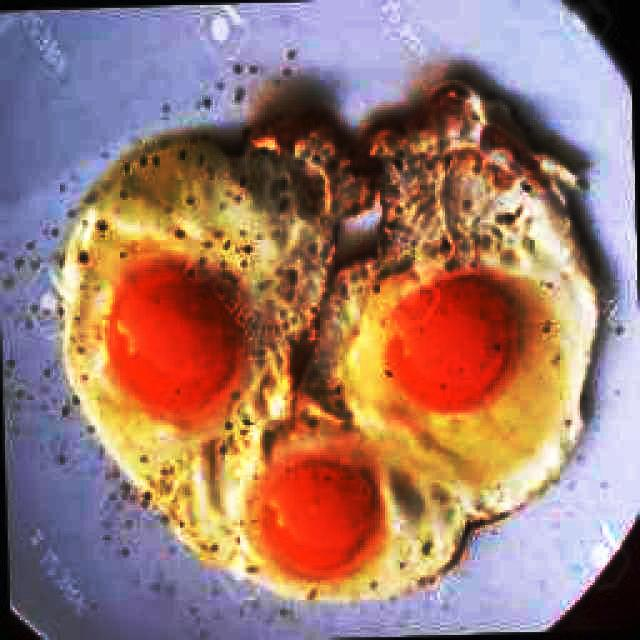fried_eggs: (61, 112, 377, 501), (368, 82, 598, 519), (160, 396, 471, 603)
